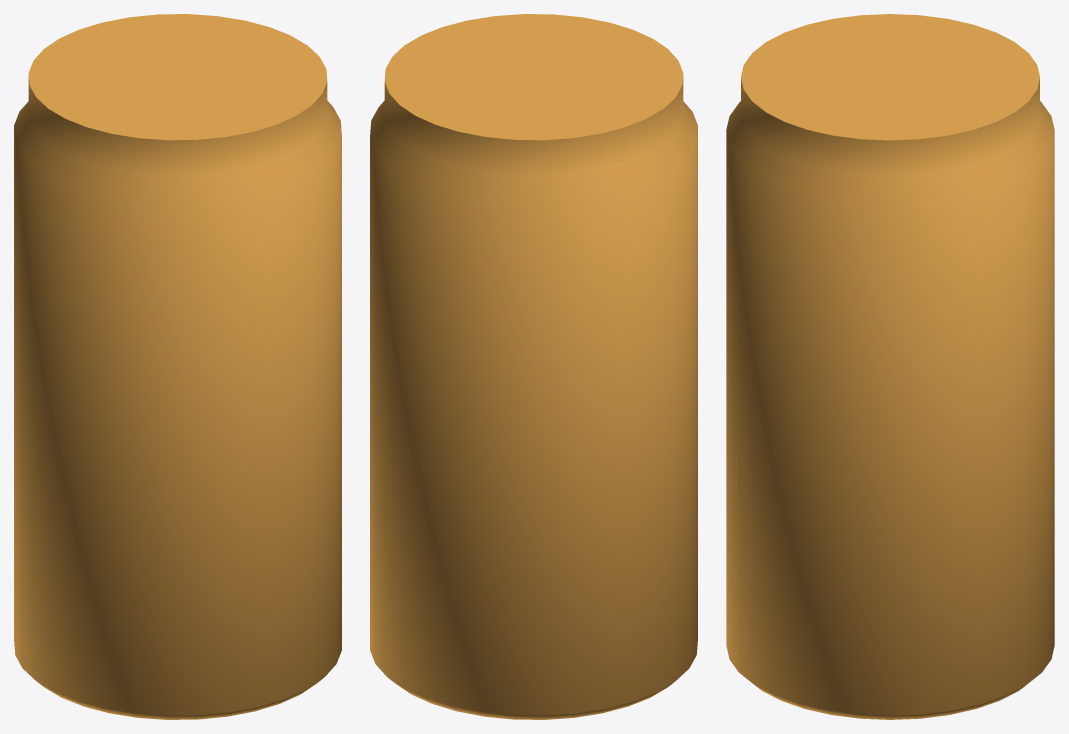
The model's file is SM_PillBottle.fbx.
3 renders of one model, left to right at view 1: azimuth 30°, elevation 25°; view 2: azimuth 150°, elevation 25°; view 3: azimuth 270°, elevation 25°, orthographic.
Parts seen in each view (by area): view 1: SM_PillBottle; view 2: SM_PillBottle; view 3: SM_PillBottle.
Part boxes in pixels (box(x1,y1,x2,y2)): SM_PillBottle: box(14, 14, 341, 719); SM_PillBottle: box(370, 14, 697, 719); SM_PillBottle: box(726, 14, 1054, 719).
Bounding box in the file's own units: 3.4 × 3.4 × 6.6.
